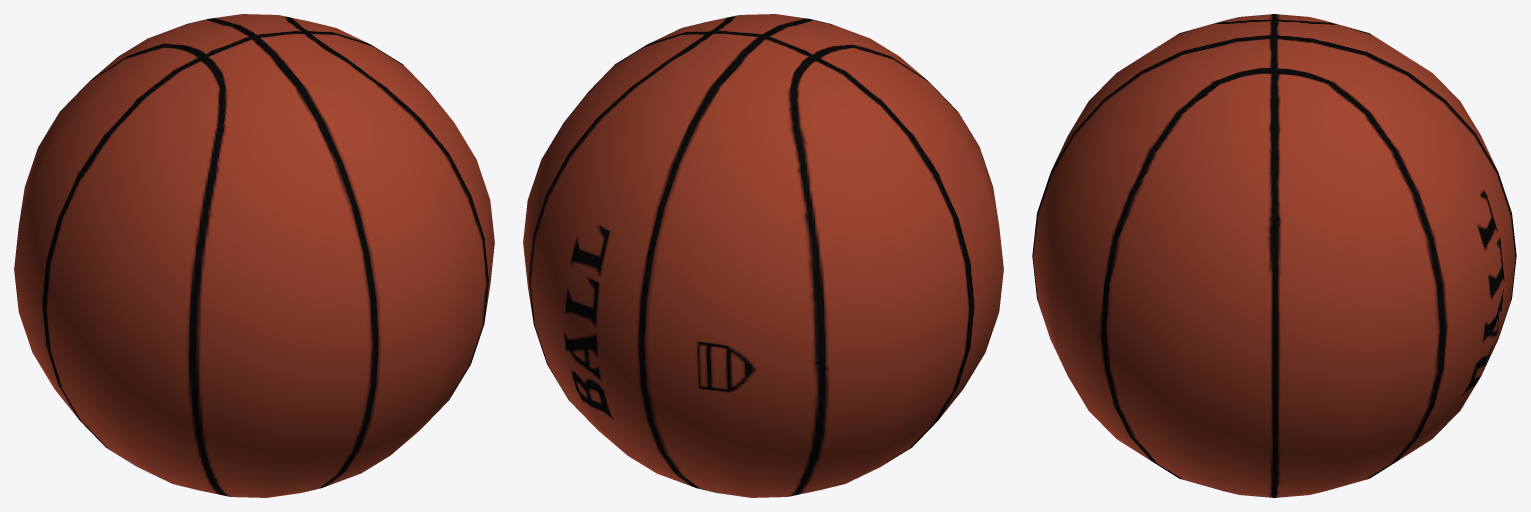
Rendered from lanqiu.FBX.
3 views of the same model, side by side, from view 1: azimuth 30°, elevation 25°; view 2: azimuth 150°, elevation 25°; view 3: azimuth 270°, elevation 25° (orthographic).
Parts seen in each view (by area): view 1: lanqiu; view 2: lanqiu; view 3: lanqiu.
Part boxes in pixels (x1,y1,x2,y2): lanqiu: (14, 14, 494, 497); lanqiu: (523, 14, 1003, 497); lanqiu: (1032, 14, 1516, 497).
Bounding box in the file's own units: 26.02 × 26.03 × 26.02.
